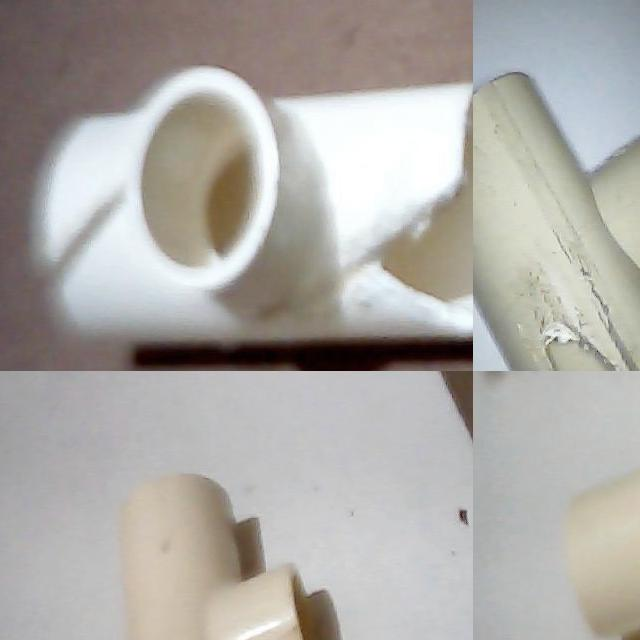Defective: (383, 177, 473, 308), (533, 322, 640, 371)
T Joint: (41, 67, 473, 351), (473, 72, 640, 371), (121, 475, 303, 640), (566, 468, 640, 640)
